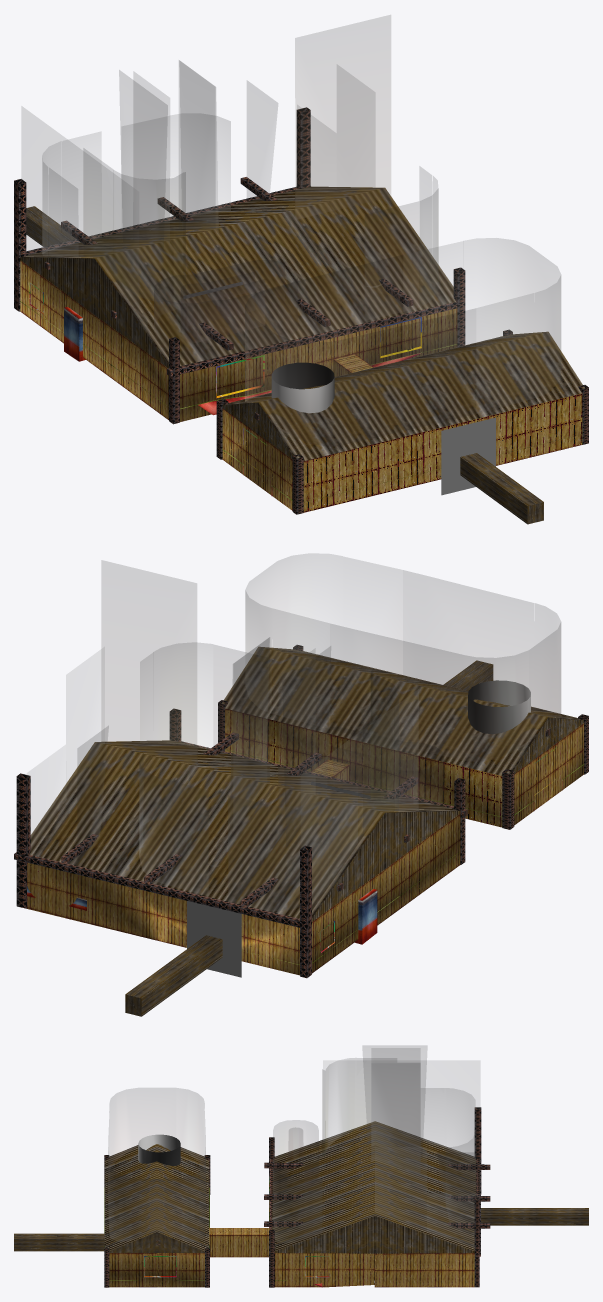
Rendered from SkatePark_Beach.FBX.
3 views of the same model, one above another, from view 1: azimuth 30°, elevation 25°; view 2: azimuth 150°, elevation 25°; view 3: azimuth 270°, elevation 25° (orthographic). The views are drawn at different scales.
Parts seen in each view (by area): view 1: Box122, Box84, Object02, Box42, Mesh10, Box47, Mesh01, Box49, Box31, Box130, Box108, Box51 (+9 smaller); view 2: Box122, Box84, Box42, Mesh10, Box49, Object02, Box47, Box51, Mesh01, Box55, Box31, Box20 (+10 smaller); view 3: Box122, Box84, Mesh10, Object02, Box55, Box47, Mesh01, Box24, Box49, Box31, Box77, Box97 (+4 smaller).
Part boxes in pixels (box(x1,y1,x2,y2)): Box122: box(20, 186, 584, 524); Box84: box(222, 238, 580, 502); Object02: box(83, 149, 297, 415); Box42: box(295, 15, 390, 219); Mesh10: box(119, 60, 217, 240); Box47: box(22, 107, 138, 361); Mesh01: box(365, 167, 456, 367); Box49: box(20, 132, 100, 332); Box31: box(247, 81, 277, 200); Box130: box(441, 417, 495, 495); Box108: box(167, 302, 457, 376); Box51: box(169, 114, 230, 220); Box122: box(27, 646, 583, 1016); Box84: box(225, 554, 584, 817); Box42: box(102, 561, 196, 764); Mesh10: box(231, 637, 330, 833); Box49: box(228, 776, 357, 964); Object02: box(311, 670, 459, 912); Box47: box(301, 689, 418, 944); Box51: box(139, 755, 207, 895); Mesh01: box(153, 643, 246, 754); Box55: box(66, 647, 104, 798); Box31: box(69, 726, 108, 910); Box20: box(187, 901, 241, 977); Box122: box(14, 1121, 588, 1287); Box84: box(104, 1088, 209, 1280); Mesh10: box(363, 1046, 426, 1175); Object02: box(269, 1058, 363, 1227); Box55: box(375, 1148, 426, 1230); Box47: box(323, 1061, 479, 1147); Mesh01: box(273, 1167, 322, 1287); Box24: box(427, 1194, 478, 1246); Box49: box(439, 1088, 475, 1163); Box31: box(437, 1153, 478, 1193); Box77: box(474, 1197, 479, 1287); Box97: box(264, 1162, 490, 1169).
Bounding box in the file's own units: 10181 × 10116 × 25630.
